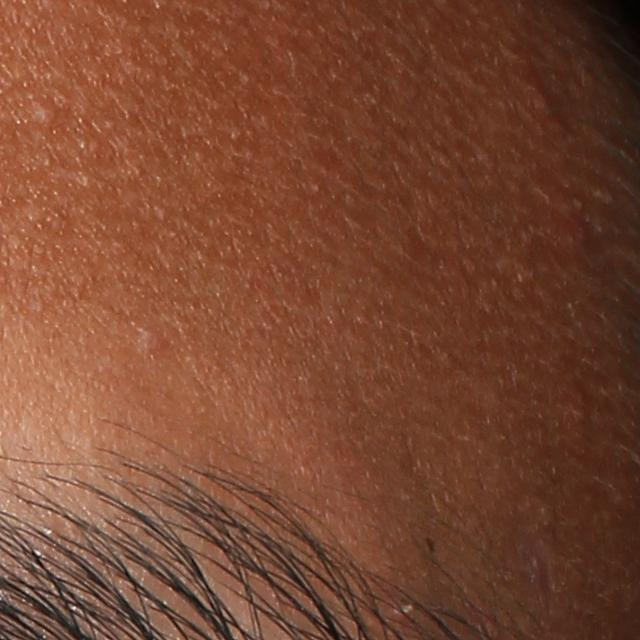comedo: (32, 98, 57, 126)
